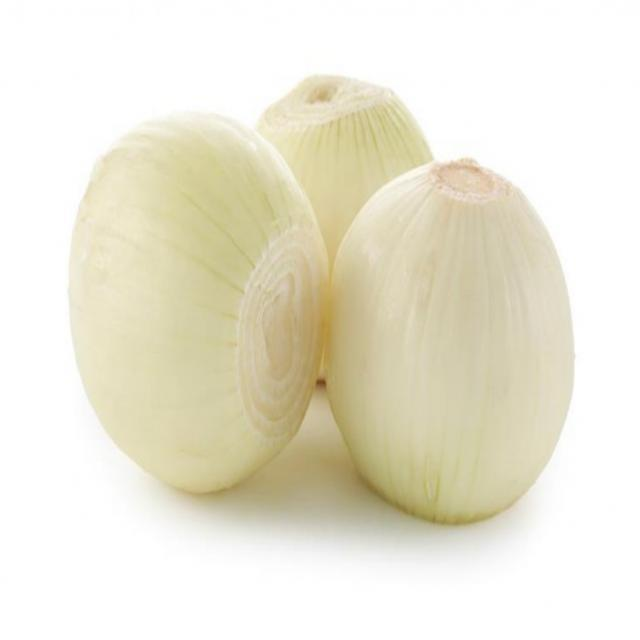onion: (63, 110, 328, 495), (324, 158, 579, 528)
